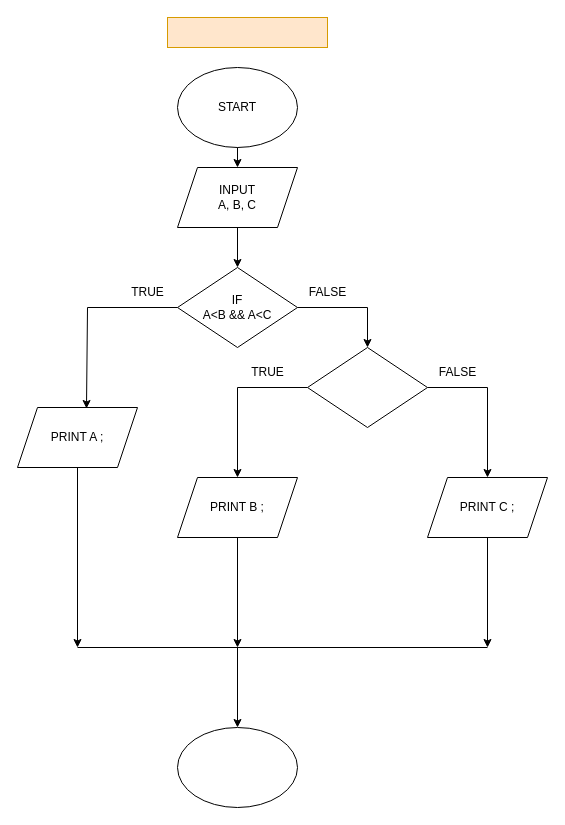
The diagram is 565 pixels wide and 825 high, and some of its shapes have lost their labels. Here are the shapes that lost their labels. From the top down, the centre of each, then its label:
the point at 247,32: Smallest Digit PROGRAM
the point at 367,387: IF B<C
the point at 237,767: STOP
